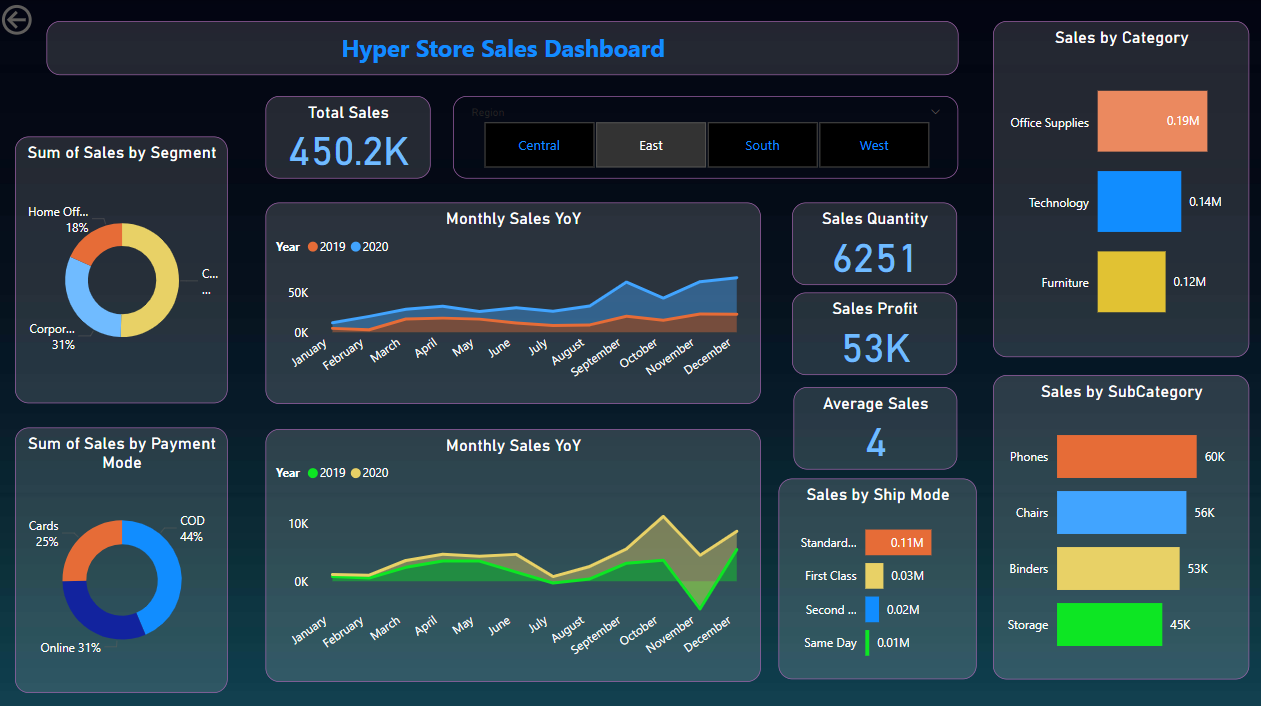

The page's visual inventory and layout, read from the dashboard file:
{"tool":"powerbi","page":{"name":"Page 1","canvas":[1280,720],"ordinal":0},"visuals":[{"type":"clusteredBarChart","title":"Sales by Category","fields":{"Category":["SuperStore_Sales_Dataset.Category"],"Y":["Sum(SuperStore_Sales_Dataset.Sales)"]},"box":[1005.4,21.2,258.9,339.2],"z":0},{"type":"clusteredBarChart","title":"Sales by SubCategory","fields":{"Y":["Sum(SuperStore_Sales_Dataset.Sales)"],"Category":["SuperStore_Sales_Dataset.Sub-Category"]},"box":[1005.4,378.6,258.9,307.4],"z":1000},{"type":"clusteredBarChart","title":"Sales by Ship Mode","fields":{"Y":["Sum(SuperStore_Sales_Dataset.Sales)"],"Category":["SuperStore_Sales_Dataset.Ship Mode"]},"box":[788.9,483,199.9,202.9],"z":2000},{"type":"stackedAreaChart","title":"Monthly Sales YoY","fields":{"Y":["Sum(SuperStore_Sales_Dataset.Sales)"],"Series":["SuperStore_Sales_Dataset.Order Date.Variation.Date Hierarchy.Year"],"Category":["SuperStore_Sales_Dataset.Order Date.Variation.Date Hierarchy.Month","SuperStore_Sales_Dataset.Order Date.Variation.Date Hierarchy.Day"]},"box":[271.7,205,500,203.3],"z":3000},{"type":"stackedAreaChart","title":"Monthly Sales YoY","fields":{"Series":["SuperStore_Sales_Dataset.Order Date.Variation.Date Hierarchy.Year"],"Category":["SuperStore_Sales_Dataset.Order Date.Variation.Date Hierarchy.Month","SuperStore_Sales_Dataset.Order Date.Variation.Date Hierarchy.Day"],"Y":["Sum(SuperStore_Sales_Dataset.Profit)"]},"box":[271.7,433.3,500,255],"z":4000},{"type":"donutChart","fields":{"Category":["SuperStore_Sales_Dataset.Segment"],"Y":["Sum(SuperStore_Sales_Dataset.Sales)"]},"box":[18.2,137.7,214.8,269.3],"z":5000},{"type":"donutChart","fields":{"Y":["Sum(SuperStore_Sales_Dataset.Sales)"],"Category":["SuperStore_Sales_Dataset.Payment Mode"]},"box":[18.2,431.2,214.8,267.8],"z":6000},{"type":"slicer","fields":{"Values":["SuperStore_Sales_Dataset.Region"]},"box":[460.3,96.9,510.3,83.3],"z":7000},{"type":"textbox","box":[50,21.2,920.6,54.5],"z":8000},{"type":"card","title":"Total Sales","fields":{"Values":["Sum(SuperStore_Sales_Dataset.Sales)"]},"box":[271,96.9,166.6,83.3],"z":9000},{"type":"card","title":"Sales Quantity","fields":{"Values":["Sum(SuperStore_Sales_Dataset.Quantity)"]},"box":[802.5,204.4,166.6,83.3],"z":10000},{"type":"card","title":"Sales Profit","fields":{"Values":["Sum(SuperStore_Sales_Dataset.Profit)"]},"box":[802.5,295.3,166.6,83.3],"z":11000},{"type":"card","title":"Average Sales","fields":{"Values":["Avg(SuperStore_Sales_Dataset.AvgDelivery)"]},"box":[804,390.7,165,83.3],"z":12000},{"type":"actionButton","box":[0,0,100,40],"z":14000}]}

Visuals, with their boxes in screenshot pixels (x1, y1, x2, y2), scaled from the page's 1280x720 canvas onto the 1261x706 screenshot:
"Sales by Category" clusteredBarChart: [990, 21, 1246, 353]
"Sales by SubCategory" clusteredBarChart: [990, 371, 1246, 673]
"Sales by Ship Mode" clusteredBarChart: [777, 474, 974, 673]
"Monthly Sales YoY" stackedAreaChart: [268, 201, 760, 400]
"Monthly Sales YoY" stackedAreaChart: [268, 425, 760, 675]
donutChart - SuperStore_Sales_Dataset.Segment x Sum(SuperStore_Sales_Dataset.Sales): [18, 135, 230, 399]
donutChart - Sum(SuperStore_Sales_Dataset.Sales) x SuperStore_Sales_Dataset.Payment Mode: [18, 423, 230, 685]
slicer - SuperStore_Sales_Dataset.Region: [453, 95, 956, 177]
textbox: [49, 21, 956, 74]
"Total Sales" card: [267, 95, 431, 177]
"Sales Quantity" card: [791, 200, 955, 282]
"Sales Profit" card: [791, 290, 955, 371]
"Average Sales" card: [792, 383, 955, 465]
actionButton: [0, 0, 99, 39]
